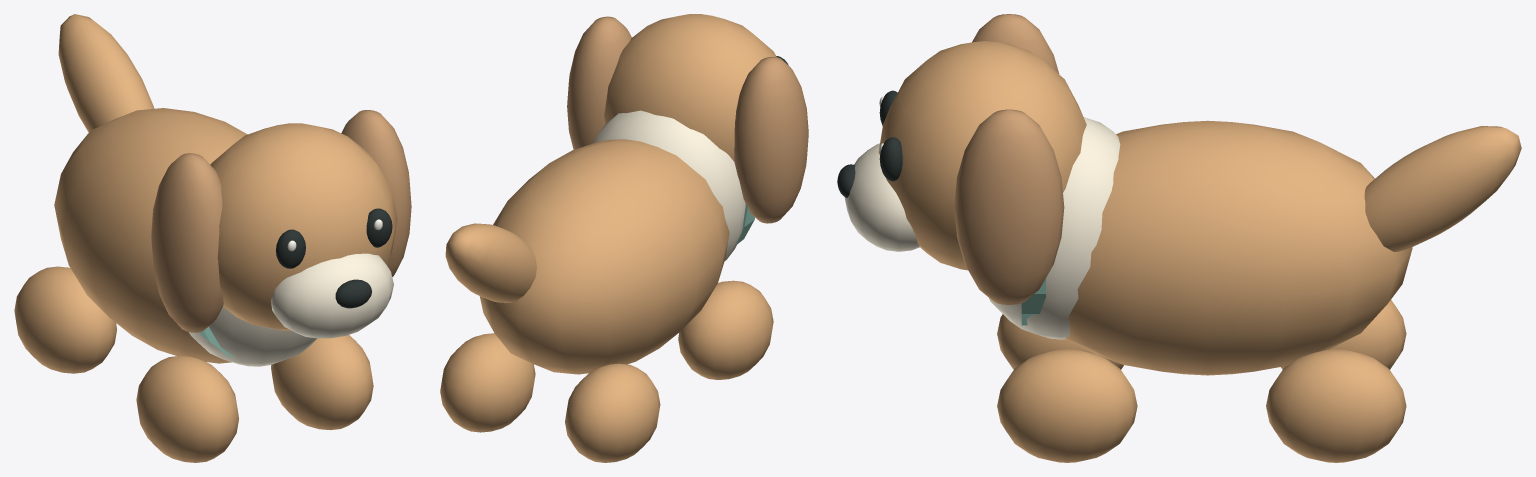
The model's file is dog.glb.
3 views of the same model, side by side, from view 1: azimuth 30°, elevation 25°; view 2: azimuth 150°, elevation 25°; view 3: azimuth 270°, elevation 25° (orthographic). The views are drawn at different scales.
Parts seen in each view (by area): view 1: head, body, ear, paw, paw.001, paw.002, muzzle, tail, ear.001, chest, eye, nose (+1 smaller); view 2: body, head, ear, paw.001, paw.003, paw, chest, tail, ear.001; view 3: body, head, ear.001, paw.002, paw.003, tail, chest, muzzle, paw.001, ear, paw, eye.001.
Part boxes in pixels (bbox=[...]): head: bbox=[210, 123, 397, 330]; body: bbox=[54, 108, 247, 363]; ear: bbox=[151, 153, 223, 332]; paw: bbox=[136, 356, 238, 462]; paw.001: bbox=[14, 266, 116, 373]; paw.002: bbox=[271, 335, 373, 430]; muzzle: bbox=[271, 253, 393, 338]; tail: bbox=[58, 14, 154, 132]; ear.001: bbox=[341, 110, 411, 276]; chest: bbox=[189, 307, 317, 366]; eye: bbox=[275, 229, 305, 268]; nose: bbox=[335, 279, 371, 308]; body: bbox=[479, 139, 729, 374]; head: bbox=[604, 14, 776, 161]; ear: bbox=[734, 57, 808, 223]; paw.001: bbox=[565, 363, 660, 462]; paw.003: bbox=[440, 333, 535, 432]; paw: bbox=[678, 280, 773, 379]; chest: bbox=[593, 110, 745, 260]; tail: bbox=[445, 223, 536, 302]; ear.001: bbox=[567, 16, 631, 149]; body: bbox=[1065, 120, 1412, 375]; head: bbox=[878, 41, 1086, 270]; ear.001: bbox=[954, 109, 1064, 304]; paw.002: bbox=[997, 349, 1137, 462]; paw.003: bbox=[1266, 349, 1406, 462]; tail: bbox=[1364, 126, 1521, 251]; chest: bbox=[989, 117, 1120, 339]; muzzle: bbox=[844, 143, 919, 251]; paw.001: bbox=[1281, 300, 1406, 369]; ear: bbox=[972, 14, 1059, 73]; paw: bbox=[997, 314, 1123, 369]; eye.001: bbox=[879, 137, 902, 181].
Size of the model in its own units: 1.02 by 1.34 by 2.24.
